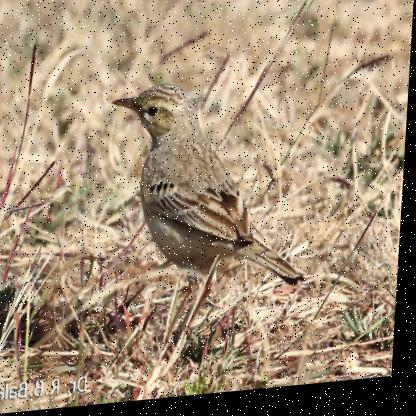Burung: (99, 73, 312, 332)
